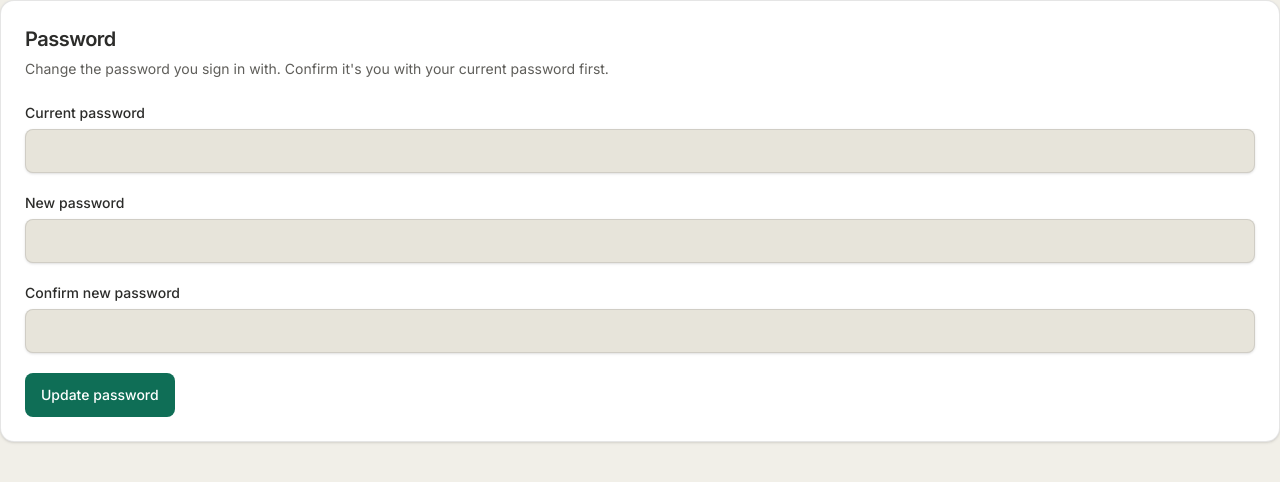
ChangePasswordSection › flags a mismatched confirmation
This screenshot has width=1280, height=482.
In the password field labelled "Current password": (640, 151) x1=25 y1=129 x2=1255 y2=173, type "oldpassword1"
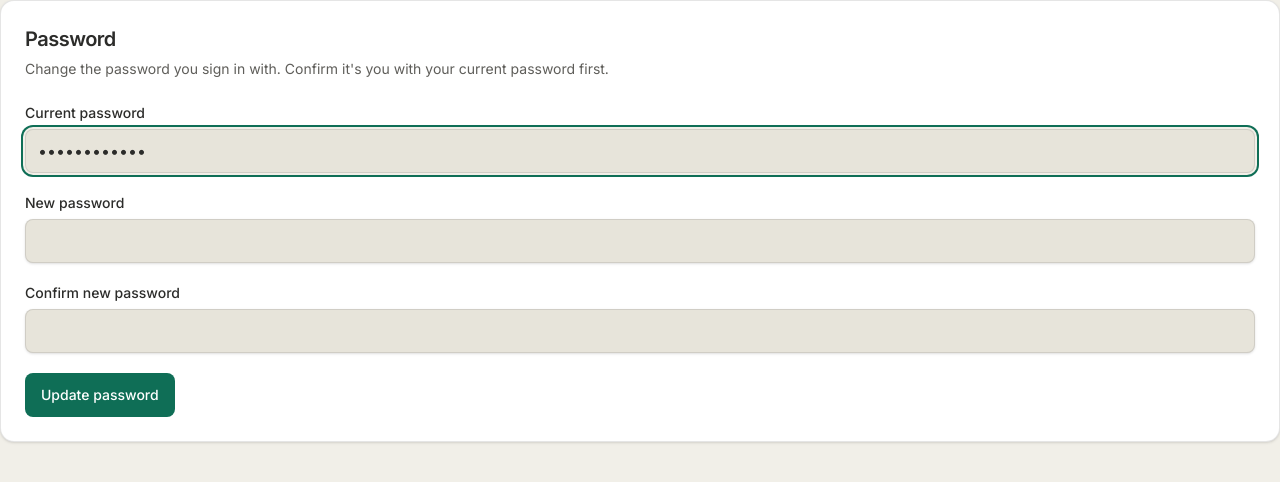
In the password field labelled "New password": (640, 241) x1=25 y1=219 x2=1255 y2=263, type "longenough1"
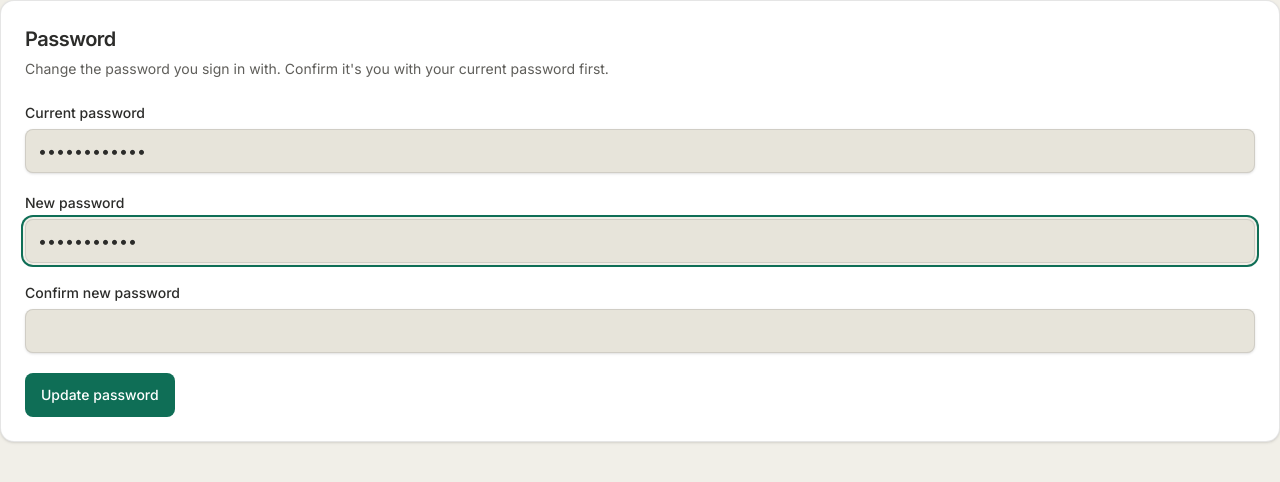
In the password field labelled "Confirm new password": (640, 331) x1=25 y1=309 x2=1255 y2=353, type "different1"
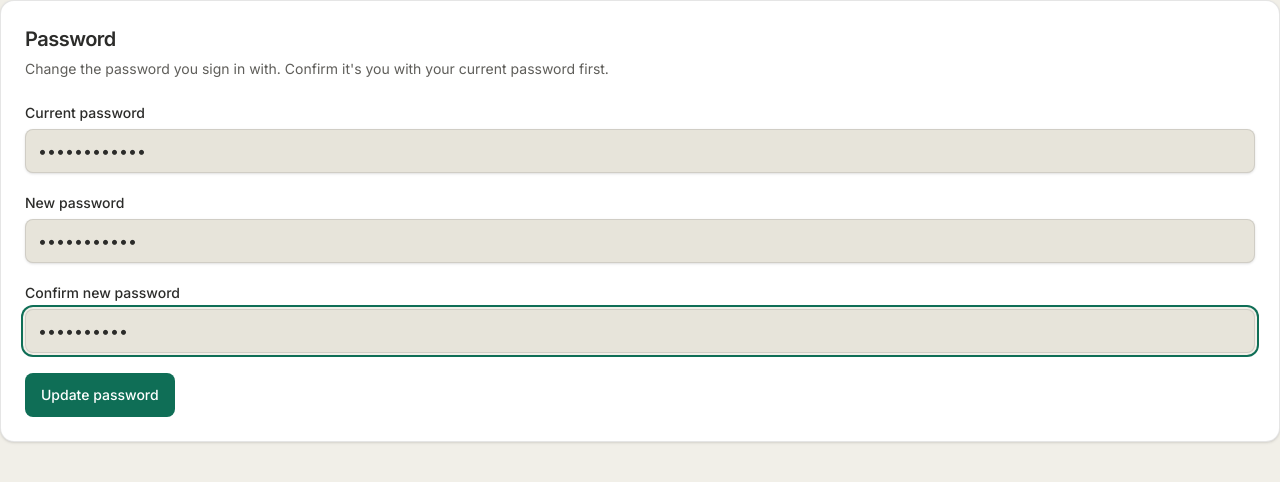
Click the button "Update password": (100, 395) x1=25 y1=373 x2=175 y2=417
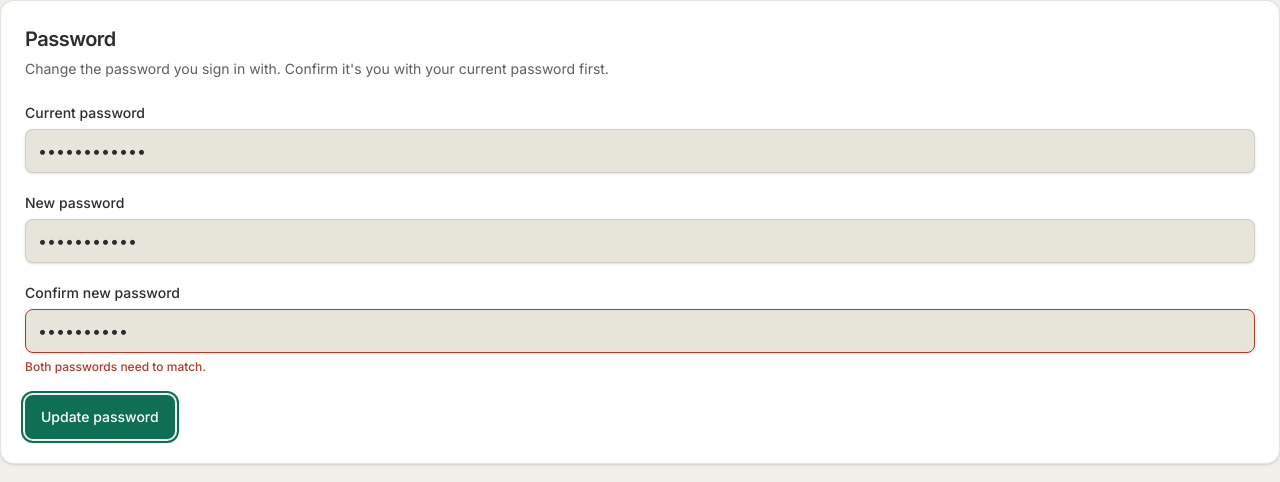
Now the text "Both passwords need to match." is shown, box x1=25 y1=359 x2=206 y2=374
